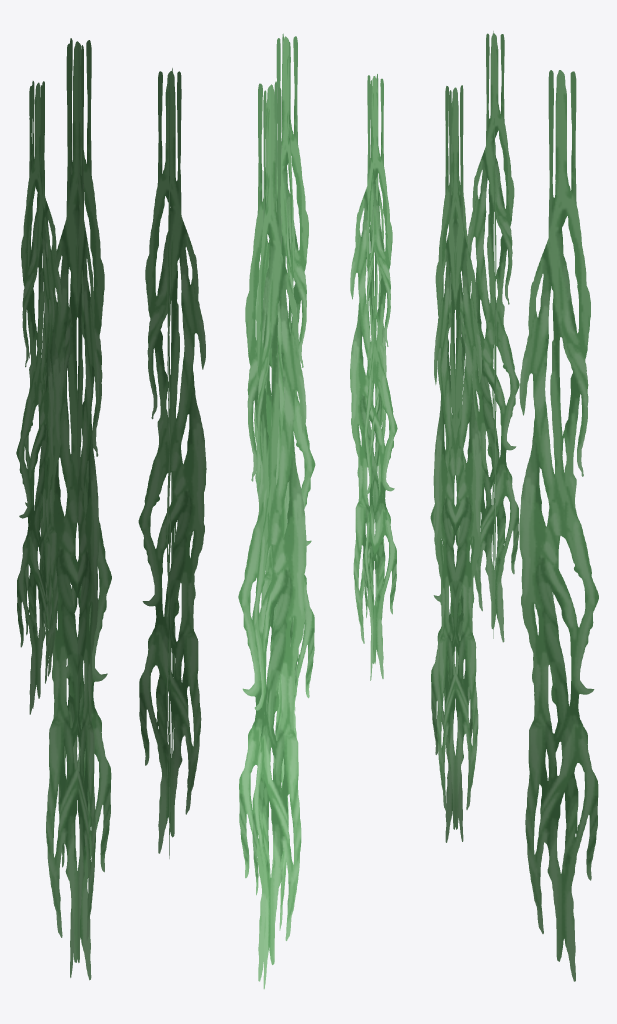
Rendered from SM_ENV_plant_ancient_14_02.fbx.
3 renders of one model, left to right at view 1: azimuth 30°, elevation 25°; view 2: azimuth 150°, elevation 25°; view 3: azimuth 270°, elevation 25°, orthographic. The views are drawn at different scales.
Parts seen in each view (by area): view 1: SM_ENV_plant_ancient_14_02_LOD0; view 2: SM_ENV_plant_ancient_14_02_LOD0; view 3: SM_ENV_plant_ancient_14_02_LOD0.
Part boxes in pixels (bbox=[...]): SM_ENV_plant_ancient_14_02_LOD0: bbox=[16, 38, 206, 980]; SM_ENV_plant_ancient_14_02_LOD0: bbox=[238, 33, 397, 989]; SM_ENV_plant_ancient_14_02_LOD0: bbox=[430, 31, 598, 981].
Bounding box in the file's own units: 79.01 × 449 × 76.11.
